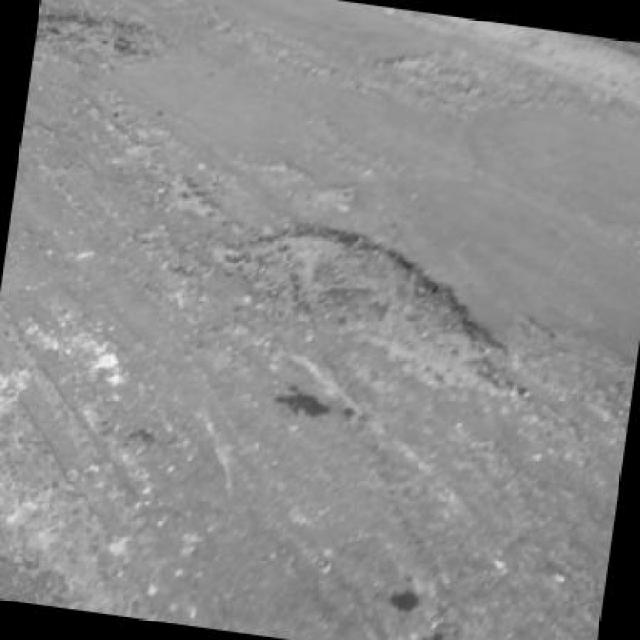pothole: (213, 206, 542, 402), (36, 2, 166, 68), (380, 46, 491, 94)
